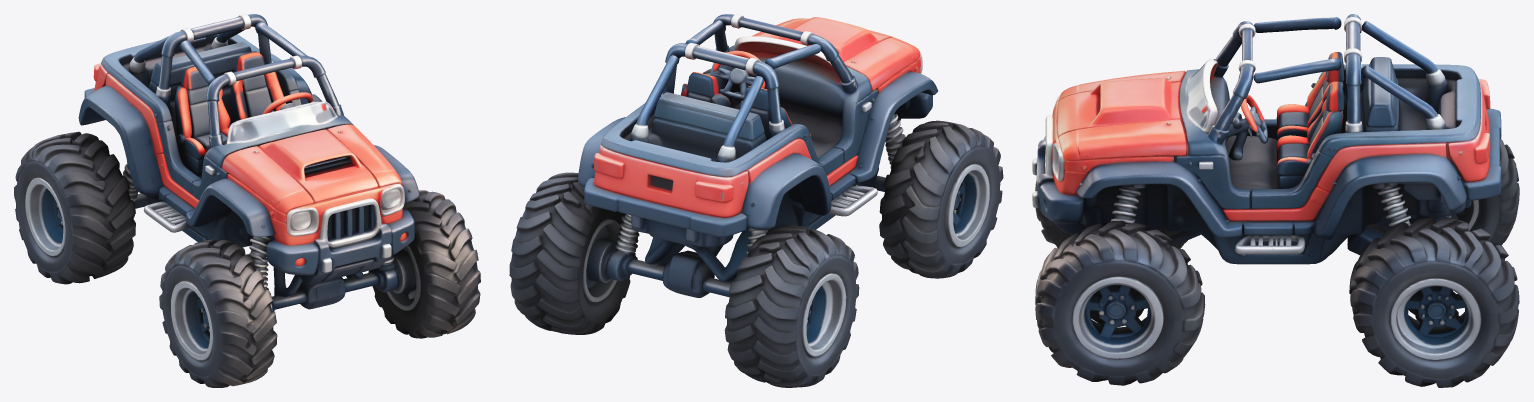
The model's file is titan-original.glb.
3 renders of one model, left to right at view 1: azimuth 30°, elevation 25°; view 2: azimuth 150°, elevation 25°; view 3: azimuth 270°, elevation 25°, orthographic. The views are drawn at different scales.
Visible parts, largest first — view 1: model; view 2: model; view 3: model.
Part boxes in pixels (x1,y1,x2,y2): model: (14,14,480,387); model: (509,14,1003,387); model: (1032,14,1519,387).
Bounding box in the file's own units: 1.36 × 1.23 × 1.89.
1 material, 1 textured.
